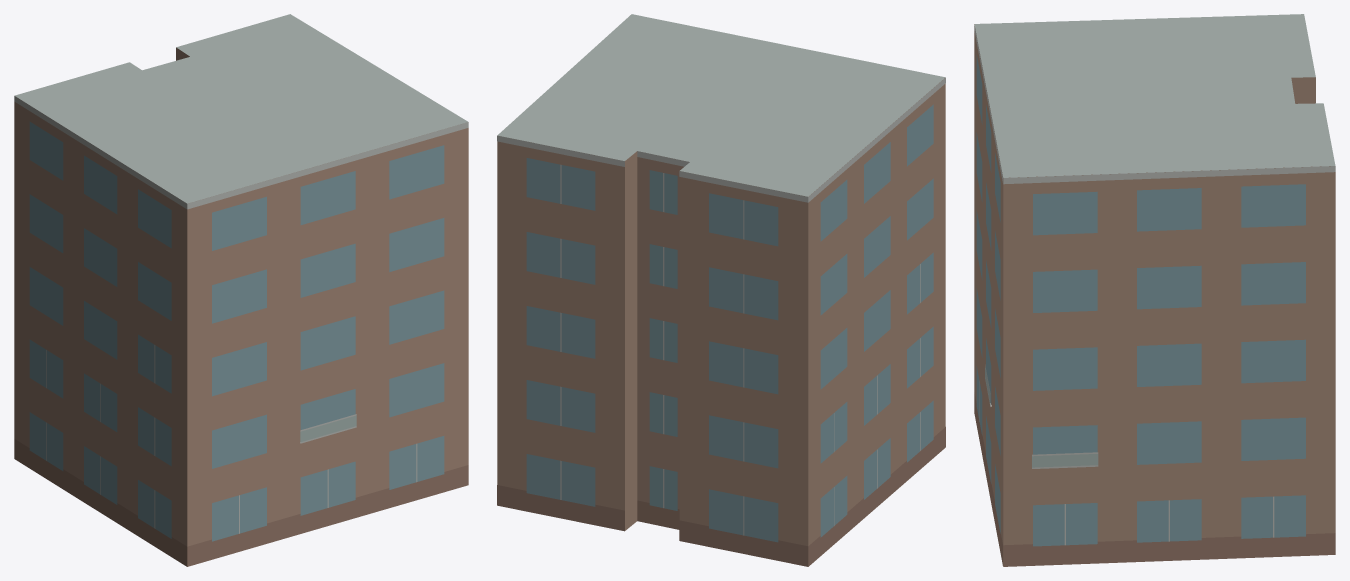
The model's file is survey-upis-32655686.glb.
The picture shows the model from 3 angles, left to right: view 1: azimuth 30°, elevation 25°; view 2: azimuth 150°, elevation 25°; view 3: azimuth 270°, elevation 25°; orthographic projection. The views are drawn at different scales.
Parts seen in each view (by area): view 1: survey-upis-32655686.tmp; view 2: survey-upis-32655686.tmp; view 3: survey-upis-32655686.tmp.
Part boxes in pixels (<box>): survey-upis-32655686.tmp: <box>14,14,468,566</box>; survey-upis-32655686.tmp: <box>497,14,945,566</box>; survey-upis-32655686.tmp: <box>974,14,1335,566</box>.
Bounding box in the file's own units: 13.8 × 15.25 × 12.84.
